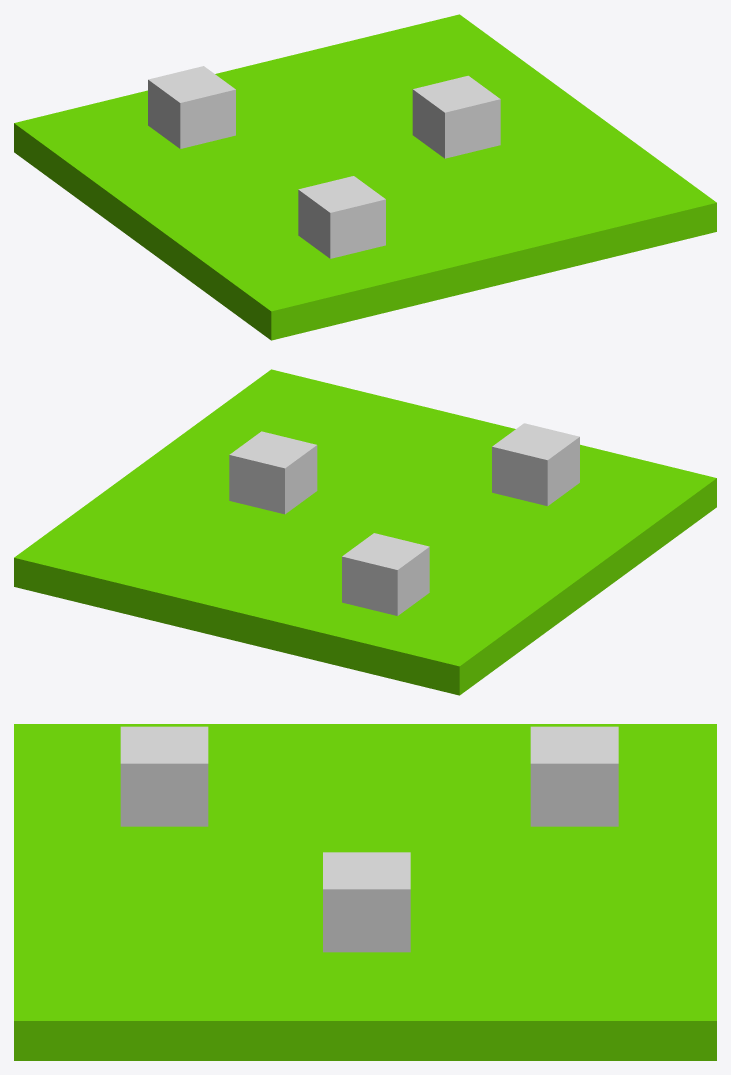
The model's file is BlockTypeMiddle-1.fbx.
3 views of the same model, one above another, from view 1: azimuth 30°, elevation 25°; view 2: azimuth 150°, elevation 25°; view 3: azimuth 270°, elevation 25° (orthographic). The views are drawn at different scales.
Parts seen in each view (by area): view 1: Cube, Cube.003, Cube.002, Cube.001; view 2: Cube, Cube.003, Cube.001, Cube.002; view 3: Cube, Cube.002, Cube.001, Cube.003.
Boxes of the visible parts, bbox=[...] form: Cube: bbox=[14, 14, 716, 340]; Cube.003: bbox=[412, 75, 500, 158]; Cube.002: bbox=[148, 66, 235, 148]; Cube.001: bbox=[298, 176, 385, 258]; Cube: bbox=[14, 369, 716, 695]; Cube.003: bbox=[229, 431, 317, 514]; Cube.001: bbox=[492, 423, 579, 506]; Cube.002: bbox=[342, 533, 429, 615]; Cube: bbox=[14, 724, 716, 1060]; Cube.002: bbox=[530, 726, 618, 826]; Cube.001: bbox=[120, 726, 208, 826]; Cube.003: bbox=[323, 852, 410, 952].
Bounding box in the file's own units: 800 × 129 × 800.
